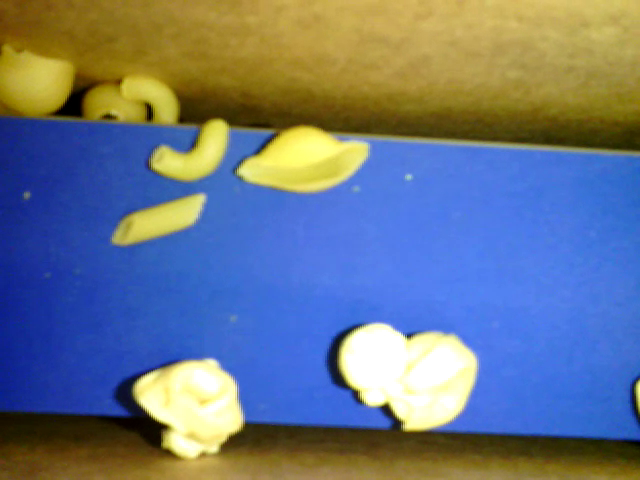elbow: (149, 119, 229, 182), (124, 75, 178, 123)
penne: (110, 190, 205, 249)
shell: (232, 124, 372, 192), (1, 43, 79, 118), (81, 80, 150, 120)
tortellini: (132, 355, 244, 459), (387, 328, 477, 430)
